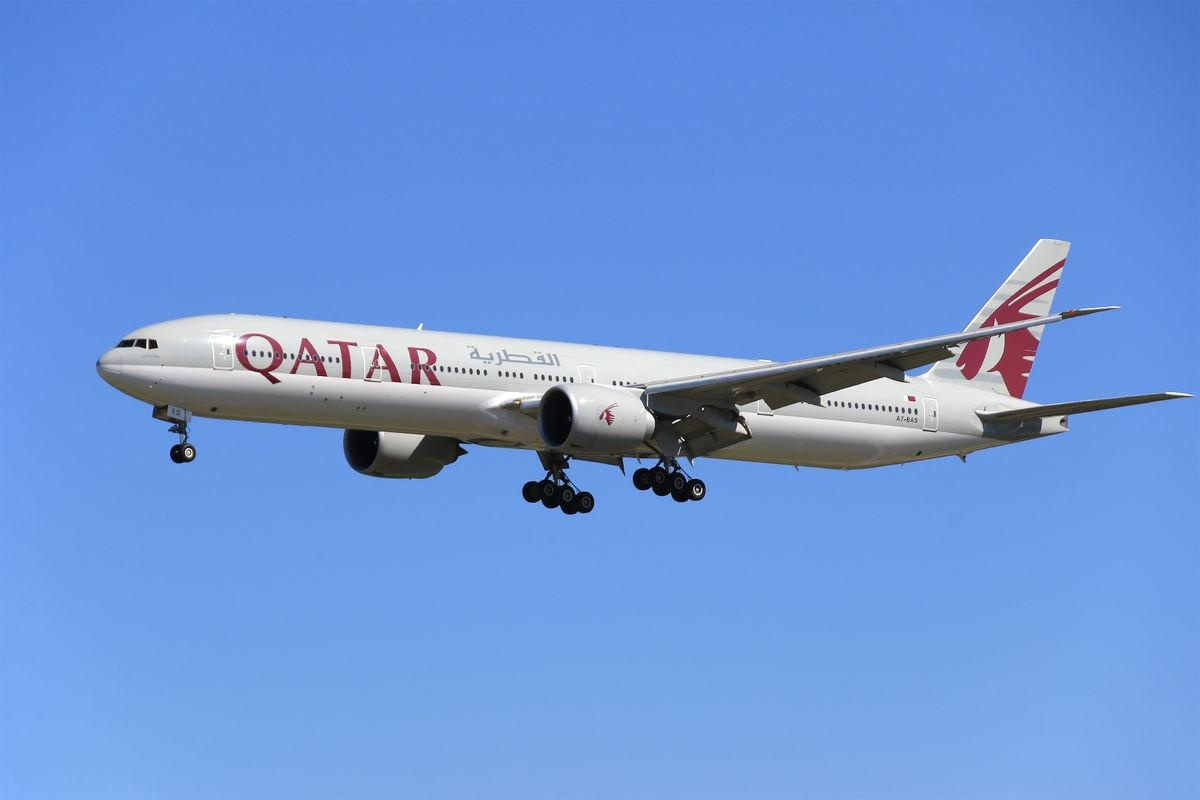airplane: (94, 235, 1200, 506)
